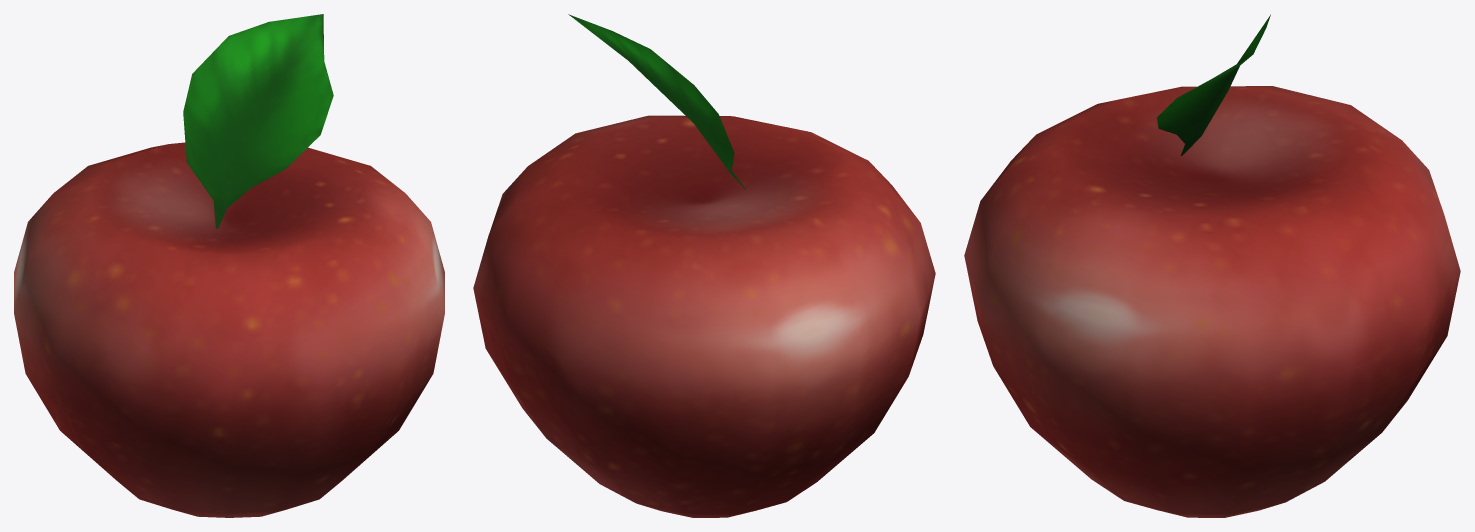
File: AnimeChibi-SchoolPack2-Apple.fbx
3 renders of one model, left to right at view 1: azimuth 30°, elevation 25°; view 2: azimuth 150°, elevation 25°; view 3: azimuth 270°, elevation 25°, orthographic. The views are drawn at different scales.
Parts seen in each view (by area): view 1: apple; view 2: apple; view 3: apple.
Boxes of the visible parts, left/top/right/bottom form: apple: left=14, top=14, right=444, bottom=517; apple: left=473, top=14, right=935, bottom=517; apple: left=964, top=14, right=1460, bottom=517.
Size of the model in its own units: 3.27 by 3.61 by 3.3.
